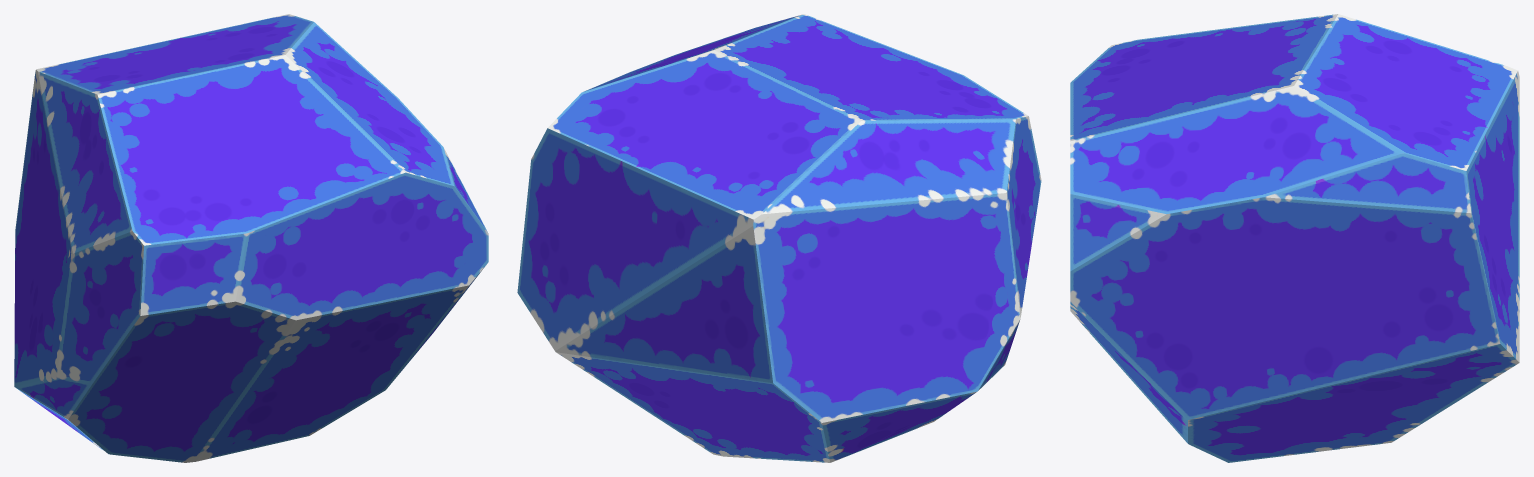
File: asteroid-blue.gltf
The picture shows the model from 3 angles, left to right: view 1: azimuth 30°, elevation 25°; view 2: azimuth 150°, elevation 25°; view 3: azimuth 270°, elevation 25°; orthographic projection. The views are drawn at different scales.
Parts seen in each view (by area): view 1: Cube; view 2: Cube; view 3: Cube.
Boxes of the visible parts, x1,y1,x2,y2 form: Cube: (14,14,488,462); Cube: (517,14,1041,462); Cube: (1070,14,1519,462).
Size of the model in its own units: 2 by 1.87 by 2.
Materials: 1 (1 with a texture image).
